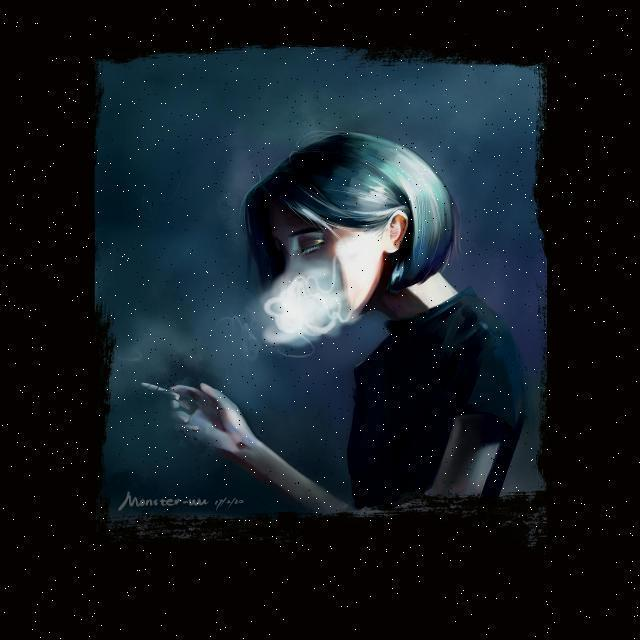smoke: (257, 272, 349, 359)
